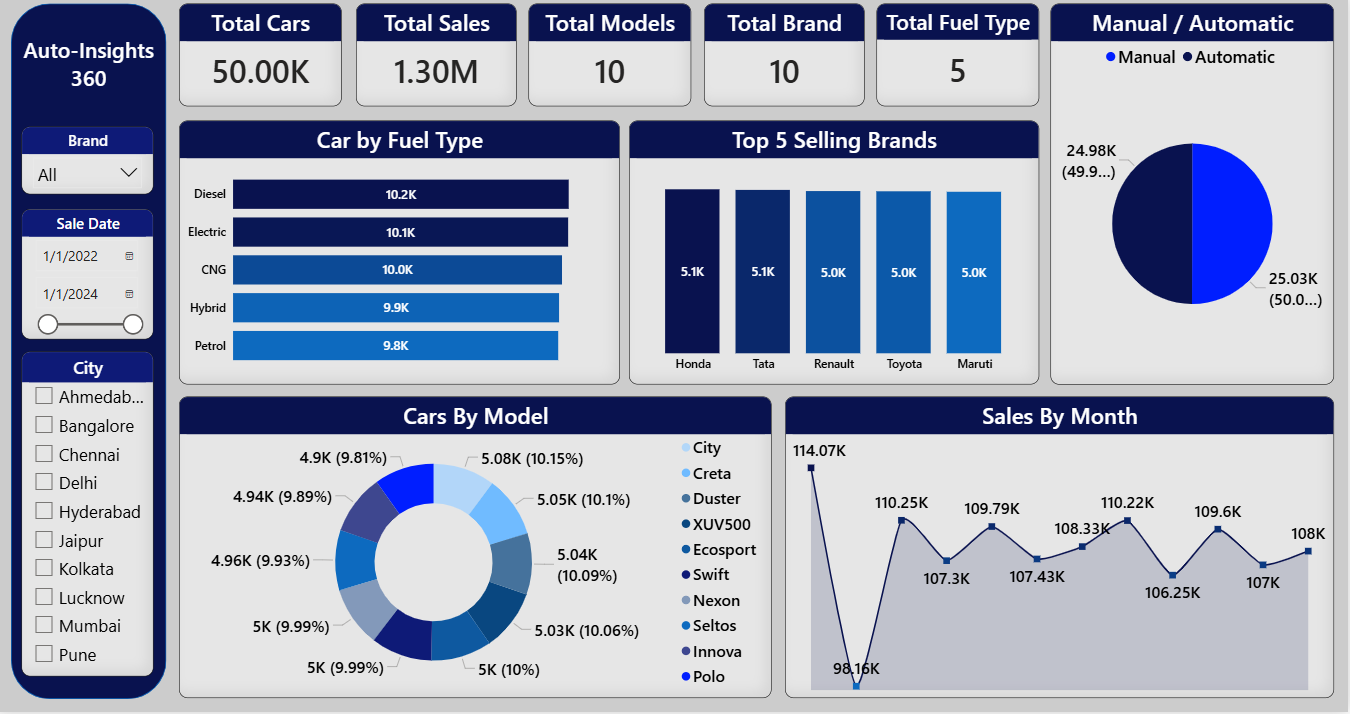

The page's visual inventory and layout, read from the dashboard file:
{"tool":"powerbi","page":{"name":"Page 1","canvas":[1700,900],"ordinal":0},"visuals":[{"type":"card","title":"Total Cars","fields":{"Values":["Count(Car_Data.Car_ID)"]},"box":[229.5,9.1,204.5,129.5],"z":0},{"type":"card","title":"Total Sales","fields":{"Values":["Sum(Car_Data.Sale_Price_Lakh)"]},"box":[452.3,9.1,202.3,129.5],"z":1000},{"type":"card","title":"Total Brand","fields":{"Values":["Count(Car_Data.Brand)"]},"box":[890.9,9.1,202.3,129.5],"z":2000},{"type":"card","title":"Total Fuel Type","fields":{"Values":["Count(Car_Data.Fuel_Type)"]},"box":[1106.8,9.1,204.5,129.5],"z":3000},{"type":"card","title":"Total Models","fields":{"Values":["Count(Car_Data.Model)"]},"box":[670.5,9.1,204.5,129.5],"z":4000},{"type":"barChart","title":"Car by Fuel Type","fields":{"Category":["Car_Data.Fuel_Type"],"Y":["CountNonNull(Car_Data.Car_ID)"]},"box":[229.5,156.8,554.5,331.8],"z":5000},{"type":"donutChart","title":"Cars By Model","fields":{"Category":["Car_Data.Model"],"Y":["CountNonNull(Car_Data.Car_ID)"]},"box":[229.5,504.5,745.5,379.5],"z":6000},{"type":"pieChart","title":"Manual / Automatic ","fields":{"Category":["Car_Data.Transmission"],"Y":["CountNonNull(Car_Data.Car_ID)"]},"box":[1327.3,9.1,356.8,479.5],"z":7000},{"type":"lineChart","title":"Sales By Month","fields":{"Y":["Sum(Car_Data.Sale_Price_Lakh)"],"Category":["Car_Data.Sale_Date.Variation.Date Hierarchy.Month"]},"box":[993.2,504.5,690.9,379.5],"z":8000},{"type":"columnChart","title":"Top 5 Selling Brands","fields":{"Category":["Car_Data.Brand"],"Y":["CountNonNull(Car_Data.Car_ID)"]},"box":[795.5,156.8,515.9,331.8],"z":9000},{"type":"shape","box":[18.2,9.1,195.5,875],"z":10000},{"type":"slicer","title":"Brand","fields":{"Values":["Car_Data.Brand"]},"box":[31.9,163.8,166,85.1],"z":11000},{"type":"slicer","title":"Sale Date","fields":{"Values":["Car_Data.Sale_Date"]},"box":[31.9,268.1,166,163.8],"z":12000},{"type":"slicer","title":"City","fields":{"Values":["Car_Data.City"]},"box":[31.9,446.8,166,408.5],"z":13000},{"type":"textbox","box":[19.1,42.6,195.7,95.7],"z":14000}]}

Visuals, with their boxes in screenshot pixels (x1, y1, x2, y2), scaled from the page's 1700x900 canvas onto the 1350x714 screenshot:
"Total Cars" card: (left=182, top=7, right=345, bottom=110)
"Total Sales" card: (left=359, top=7, right=520, bottom=110)
"Total Brand" card: (left=707, top=7, right=868, bottom=110)
"Total Fuel Type" card: (left=879, top=7, right=1041, bottom=110)
"Total Models" card: (left=532, top=7, right=695, bottom=110)
"Car by Fuel Type" barChart: (left=182, top=124, right=623, bottom=388)
"Cars By Model" donutChart: (left=182, top=400, right=774, bottom=701)
"Manual / Automatic " pieChart: (left=1054, top=7, right=1337, bottom=388)
"Sales By Month" lineChart: (left=789, top=400, right=1337, bottom=701)
"Top 5 Selling Brands" columnChart: (left=632, top=124, right=1041, bottom=388)
shape: (left=14, top=7, right=170, bottom=701)
"Brand" slicer: (left=25, top=130, right=157, bottom=197)
"Sale Date" slicer: (left=25, top=213, right=157, bottom=343)
"City" slicer: (left=25, top=354, right=157, bottom=679)
textbox: (left=15, top=34, right=171, bottom=110)
